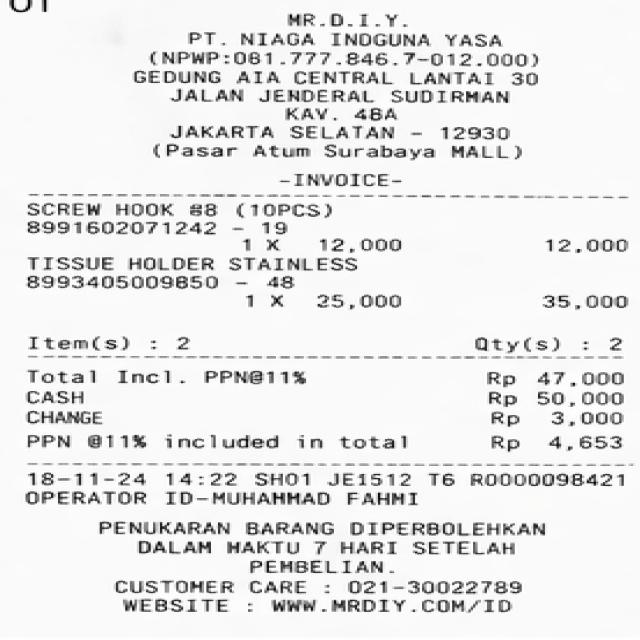date: (23, 464, 241, 489)
store: (278, 8, 406, 30)
total: (16, 364, 640, 390)
